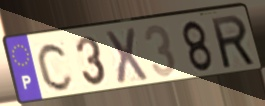3: (143, 22, 180, 81), (75, 35, 108, 88)
8: (181, 18, 216, 75)
C: (35, 40, 76, 93)
R: (208, 12, 258, 71)
X: (102, 26, 150, 88)
